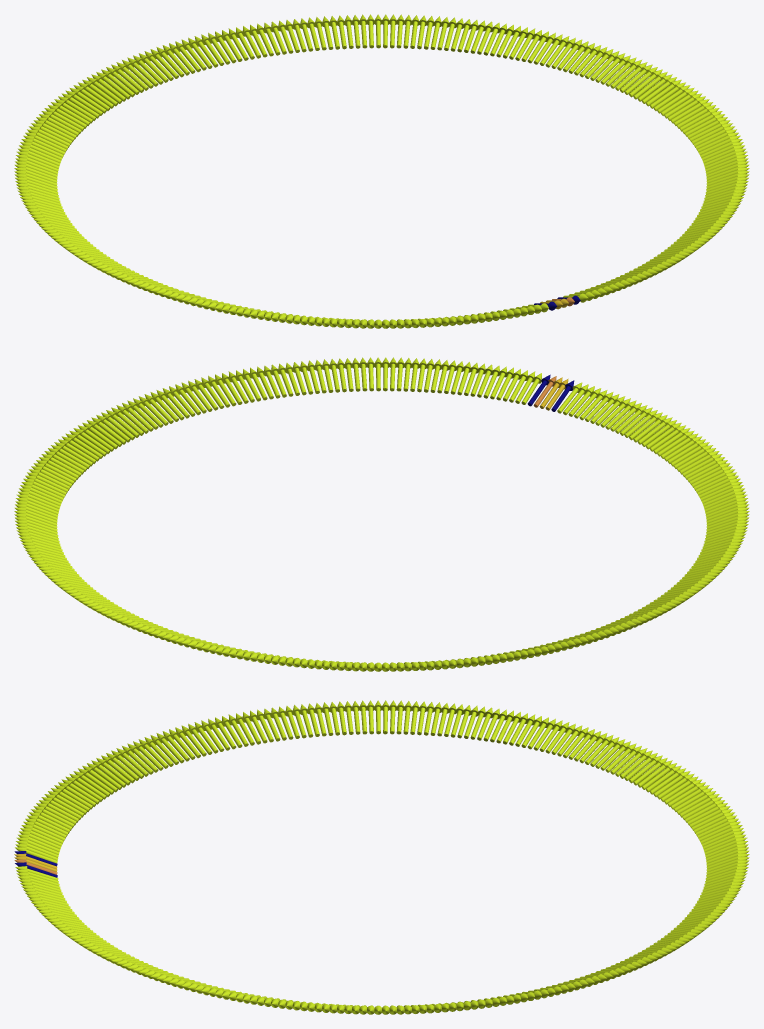
Rendered from coil_3_forces.gltf.
3 renders of one model, top to bottom at view 1: azimuth 30°, elevation 25°; view 2: azimuth 150°, elevation 25°; view 3: azimuth 270°, elevation 25°, orthographic.
Parts seen in each view (by area): view 1: Renderer Node; view 2: Renderer Node; view 3: Renderer Node.
Boxes of the visible parts, x1,y1,x2,y2 form: Renderer Node: [14, 14, 749, 328]; Renderer Node: [14, 357, 749, 671]; Renderer Node: [14, 700, 749, 1014].
Bounding box in the file's own units: 0.6785 × 0.017 × 0.6785.
1 material, 1 textured.
